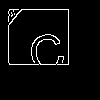C: (24, 22, 68, 75)
